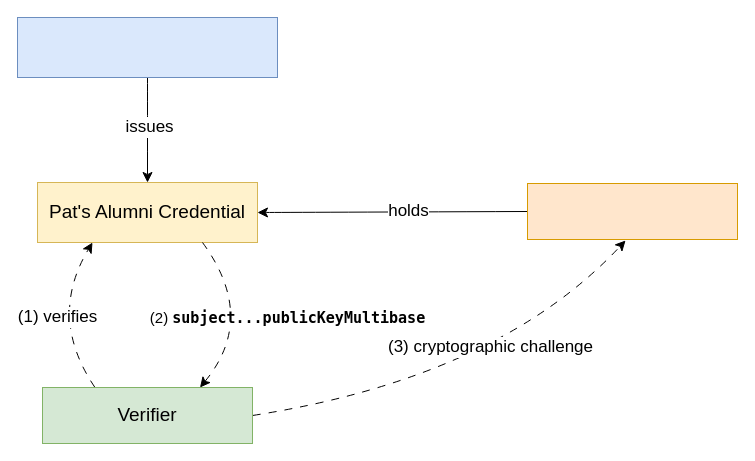
Image size: 755x461. Some labels were removed from this diagram. Each missing label, with the centre of its shape:
"Holder" belongs at pixel 632 211.
"School of Computer Science (Issuer)" belongs at pixel 147 47.
